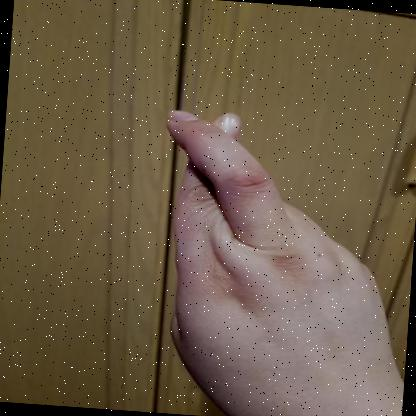R: (166, 110, 399, 416)
